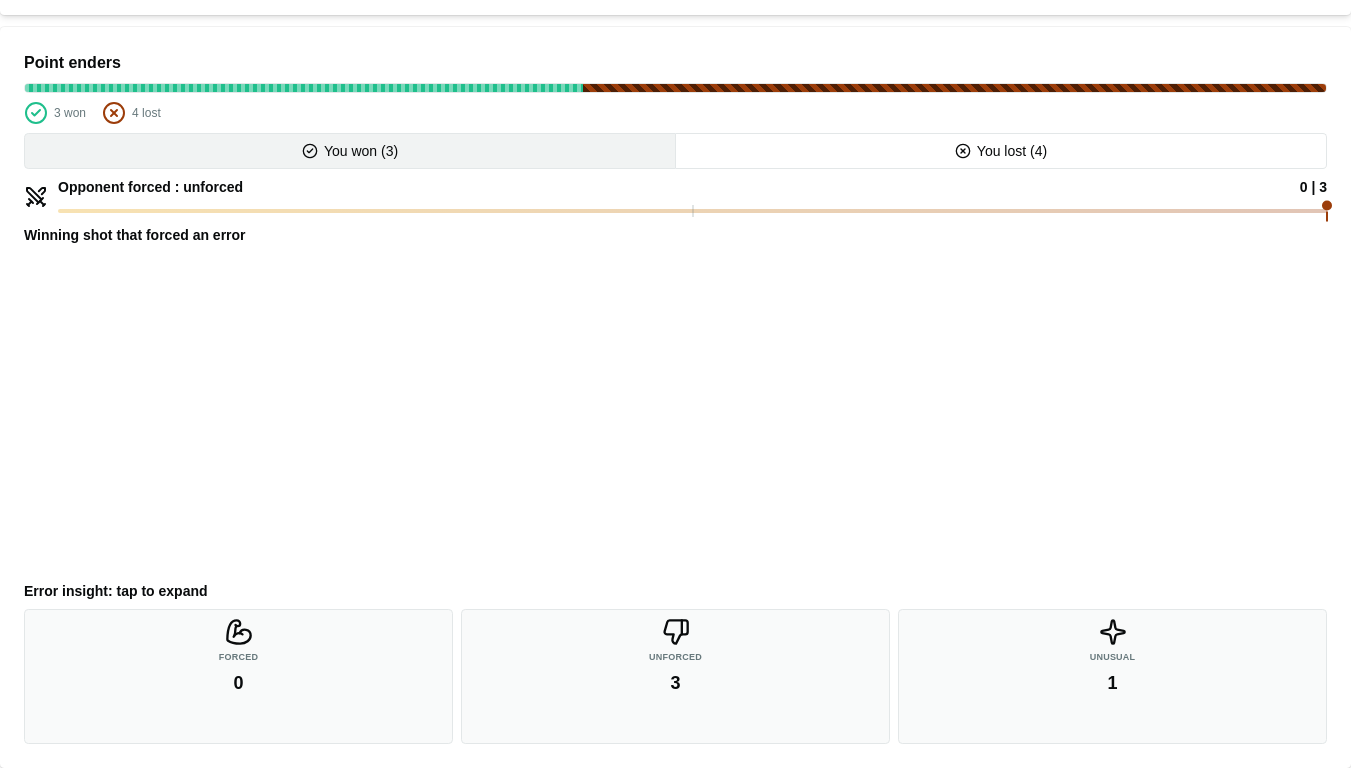
it: an unforced style with a real count but no breakdown says so instead of showing bare headings
The image size is (1366, 768).
(page scrolled)
Expected: the heading "Point enders" is shown, [24,54,121,71]
Click the button "Unforced 3" at [676, 677], box [461,609,890,744]
(page scrolled)
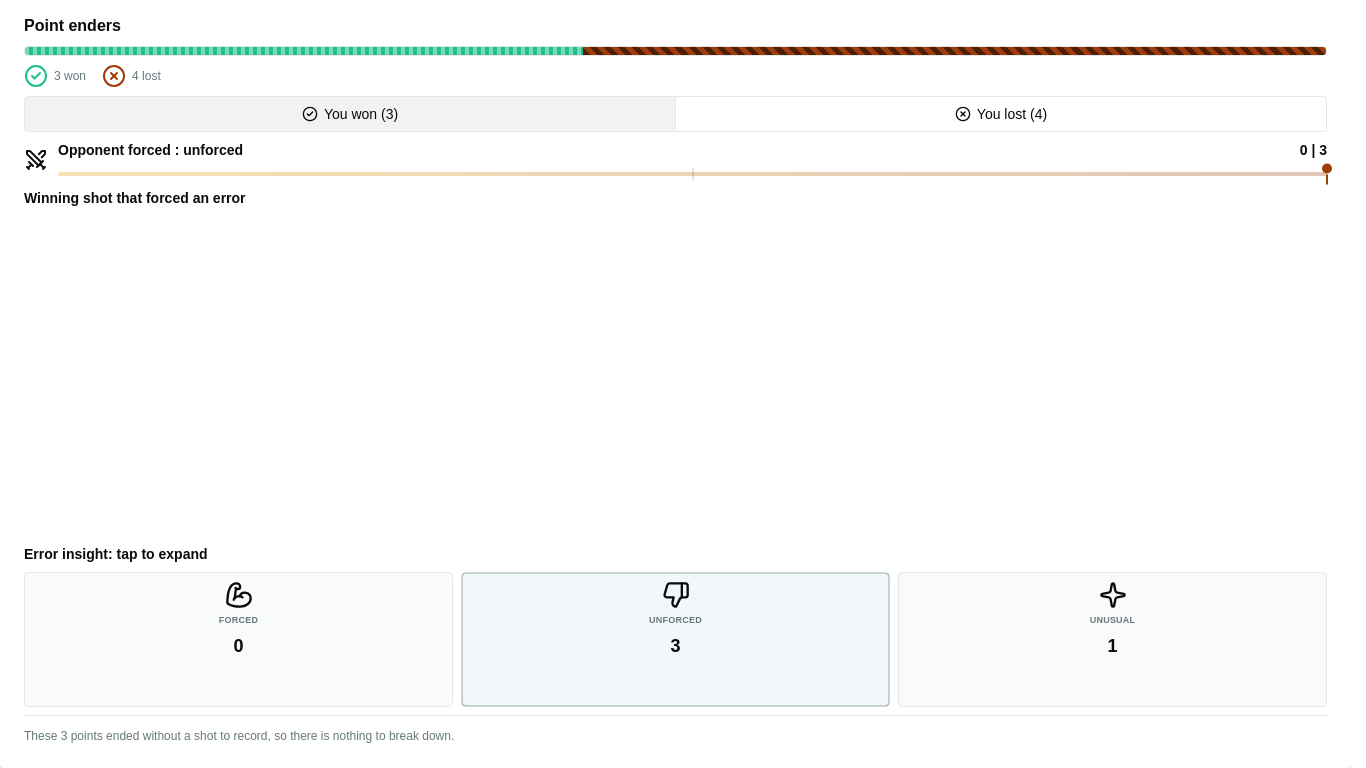
Result: the text "These 3 points ended without a shot to record, so there is nothing to break down." is shown at [24,729,454,743]
